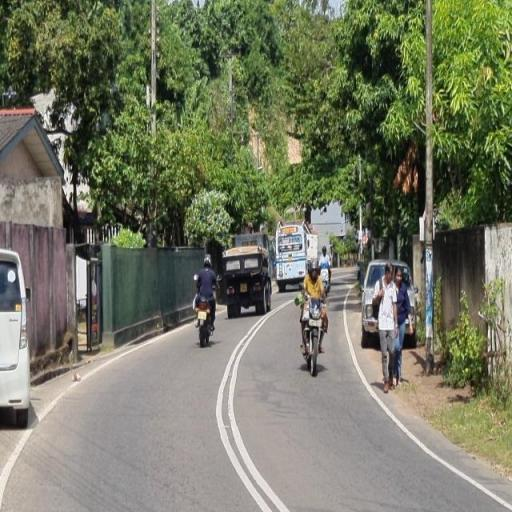double_white_line: (213, 298, 296, 510)
